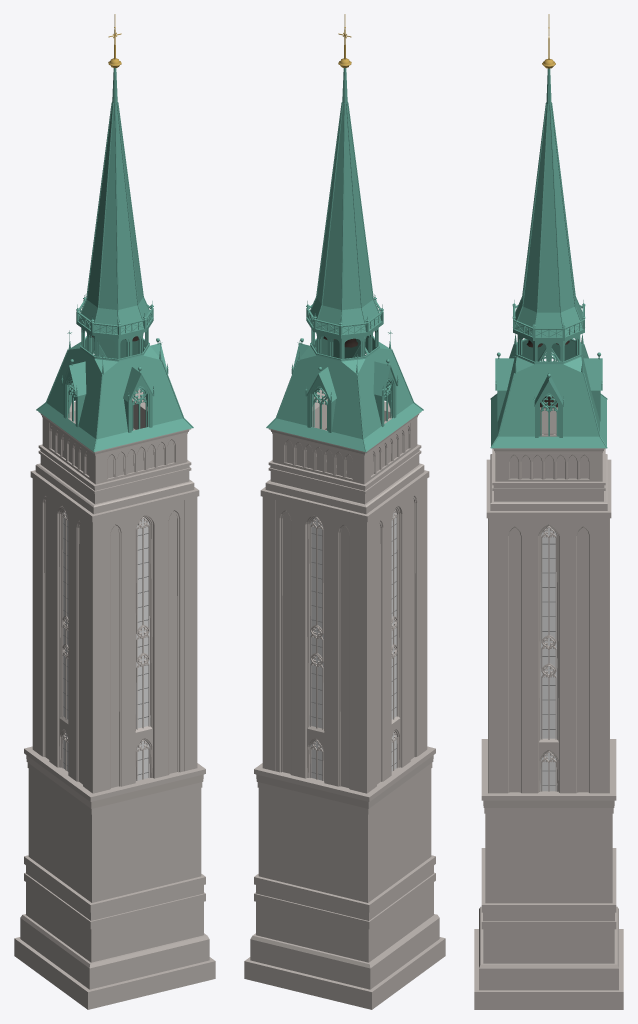
The model's file is tower1_2.fbx.
3 renders of one model, left to right at view 1: azimuth 30°, elevation 25°; view 2: azimuth 150°, elevation 25°; view 3: azimuth 270°, elevation 25°, orthographic.
Visible parts, largest first — view 1: Unity_Export_Mesh; view 2: Unity_Export_Mesh; view 3: Unity_Export_Mesh.
Boxes of the visible parts, x1,y1,x2,y2 form: Unity_Export_Mesh: (14, 14, 215, 1009); Unity_Export_Mesh: (244, 14, 445, 1009); Unity_Export_Mesh: (474, 14, 623, 1009).
Bounding box in the file's own units: 87.94 × 628 × 87.94.
